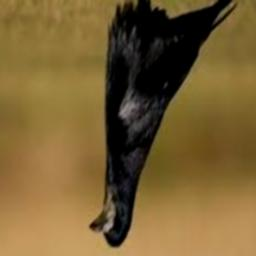Crow: (89, 0, 241, 249)
